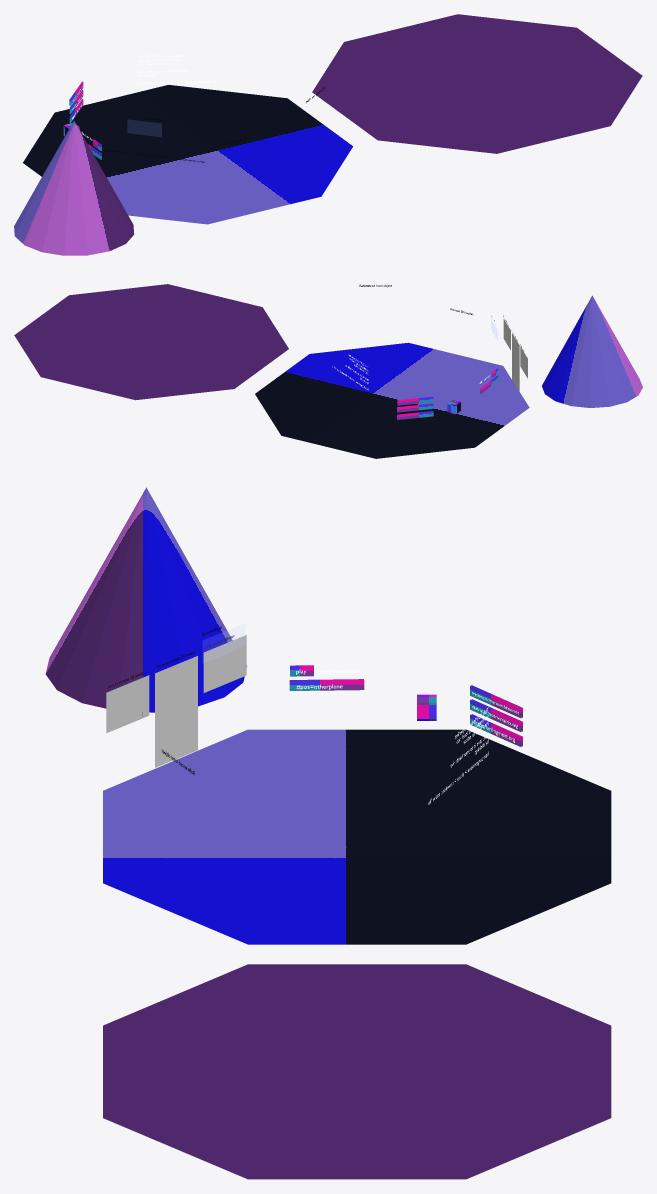
Rendered from example.glb.
3 views of the same model, one above another, from view 1: azimuth 30°, elevation 25°; view 2: azimuth 150°, elevation 25°; view 3: azimuth 270°, elevation 25° (orthographic). The views are drawn at different scales.
Parts seen in each view (by area): view 1: otherplane, floor1, cone, Text.005, remote_image; view 2: otherplane, floor1, cone, portal_to_remote_3D_model; view 3: otherplane, floor1, cone, portal_to_remote_3D_model, lens_to_remote_3D_model, lens_to_local_objects.
Boxes of the visible parts, bbox=[...] form: otherplane: bbox=[312, 14, 642, 153]; floor1: bbox=[23, 85, 352, 224]; cone: bbox=[14, 121, 134, 255]; Text.005: bbox=[138, 54, 217, 84]; remote_image: bbox=[128, 120, 161, 136]; otherplane: bbox=[14, 284, 288, 400]; floor1: bbox=[255, 342, 529, 458]; cone: bbox=[542, 295, 642, 407]; portal_to_remote_3D_model: bbox=[512, 333, 519, 391]; otherplane: bbox=[103, 964, 611, 1179]; floor1: bbox=[103, 729, 611, 944]; cone: bbox=[45, 487, 246, 712]; portal_to_remote_3D_model: bbox=[155, 656, 197, 767]; lens_to_remote_3D_model: bbox=[106, 675, 149, 733]; lens_to_local_objects: bbox=[203, 635, 246, 692].
Size of what is drawn, in the model's own units: 33.78 by 6.13 by 15.27.
Materials: 6 (3 with a texture image).
